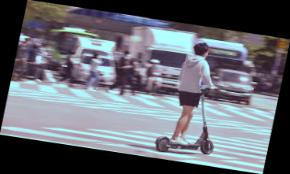nonhelmet: (152, 37, 237, 160)
